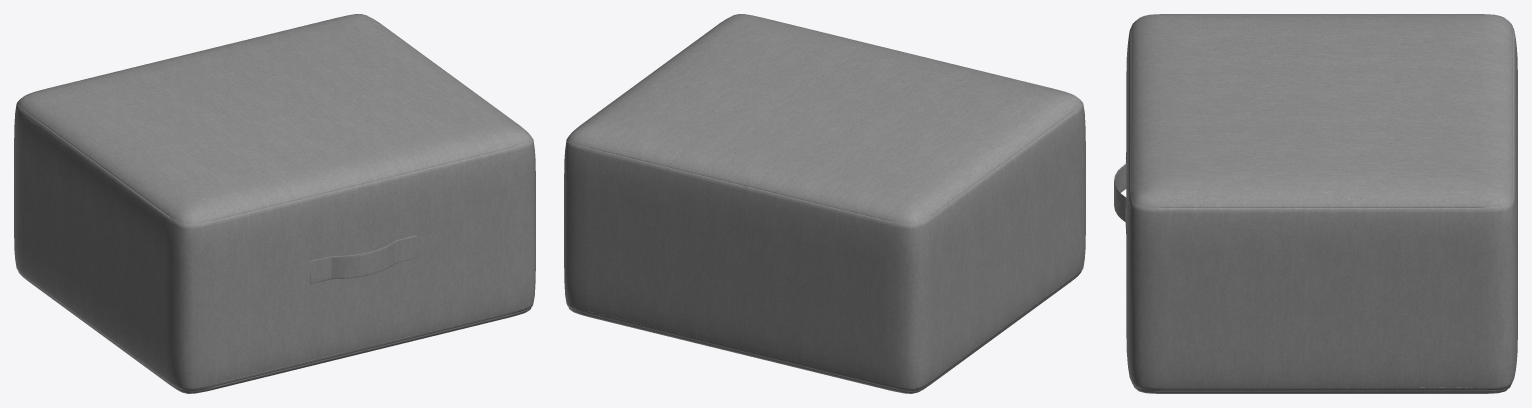
Rendered from vithall_materac_puf_10565418.glb.
3 renders of one model, left to right at view 1: azimuth 30°, elevation 25°; view 2: azimuth 150°, elevation 25°; view 3: azimuth 270°, elevation 25°, orthographic. The views are drawn at different scales.
Parts seen in each view (by area): view 1: vithall_materac_puf_10565418; view 2: vithall_materac_puf_10565418; view 3: vithall_materac_puf_10565418.
Part boxes in pixels (x1,y1,x2,y2): vithall_materac_puf_10565418: [14, 14, 535, 393]; vithall_materac_puf_10565418: [564, 14, 1085, 393]; vithall_materac_puf_10565418: [1114, 14, 1517, 393].
Bounding box in the file's own units: 0.8081 × 0.4015 × 0.7098.
Materials: 1 (1 with a texture image).
